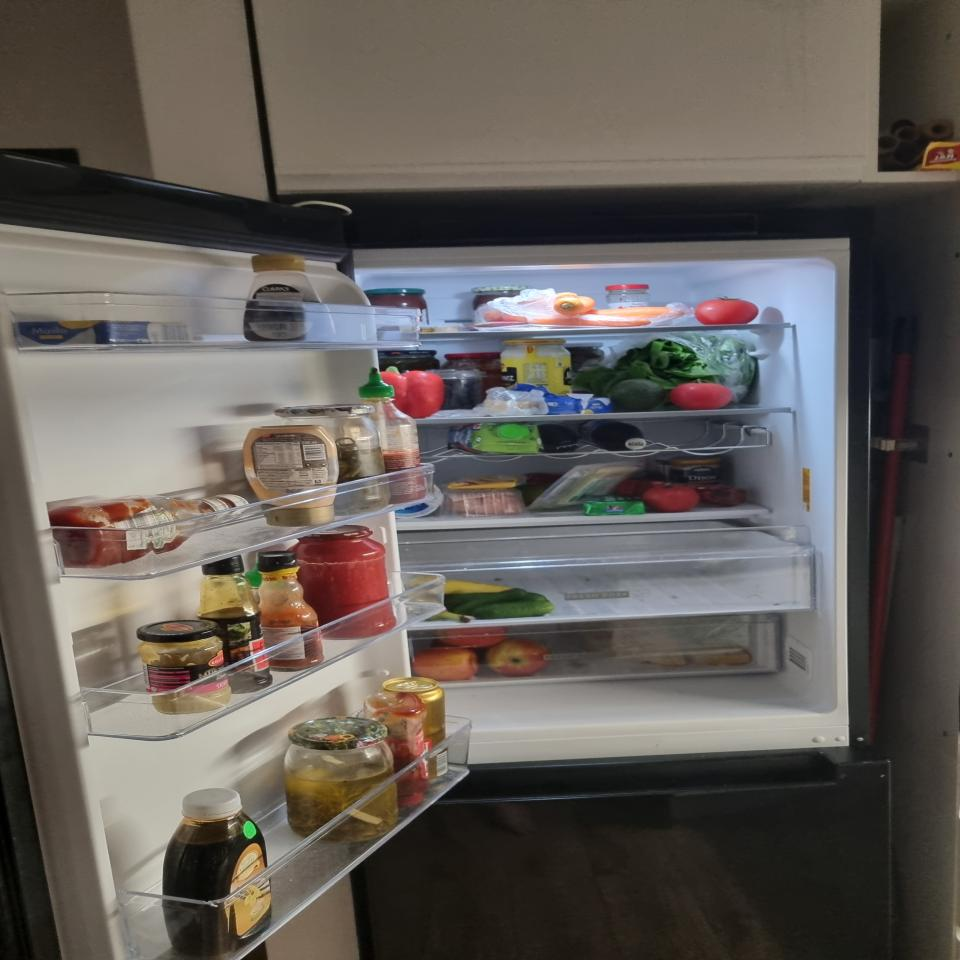Aguacate: (610, 379, 664, 411)
Carne pollo: (450, 489, 524, 515)
Lechuga/Endivia: (574, 333, 755, 404)
Mantequilla: (12, 320, 193, 346), (512, 384, 611, 415), (580, 495, 645, 516)
Manzana: (487, 639, 550, 676), (411, 646, 476, 680), (440, 626, 510, 647)
Pepino: (443, 588, 555, 619)
Plátano: (406, 573, 513, 623)
Queso: (526, 460, 643, 509), (694, 644, 750, 666), (447, 474, 517, 489)
Tomate: (672, 379, 732, 410), (695, 296, 760, 324), (644, 483, 699, 513)
Zanahoria: (484, 292, 683, 328)
